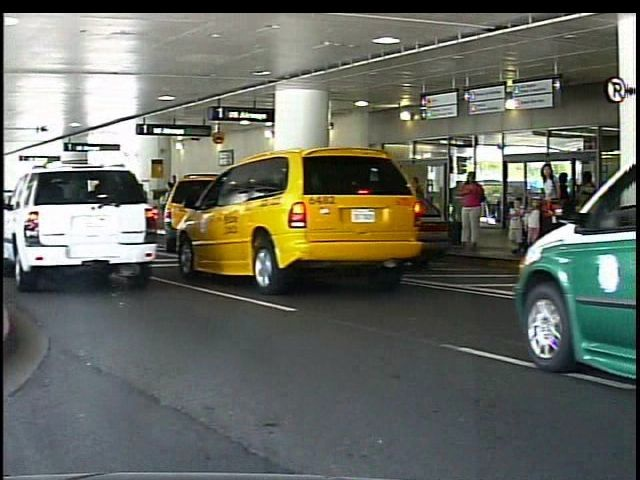person: (458, 168, 487, 254), (581, 170, 607, 239), (540, 162, 565, 232), (556, 172, 576, 242), (512, 198, 532, 253), (527, 202, 544, 255)
